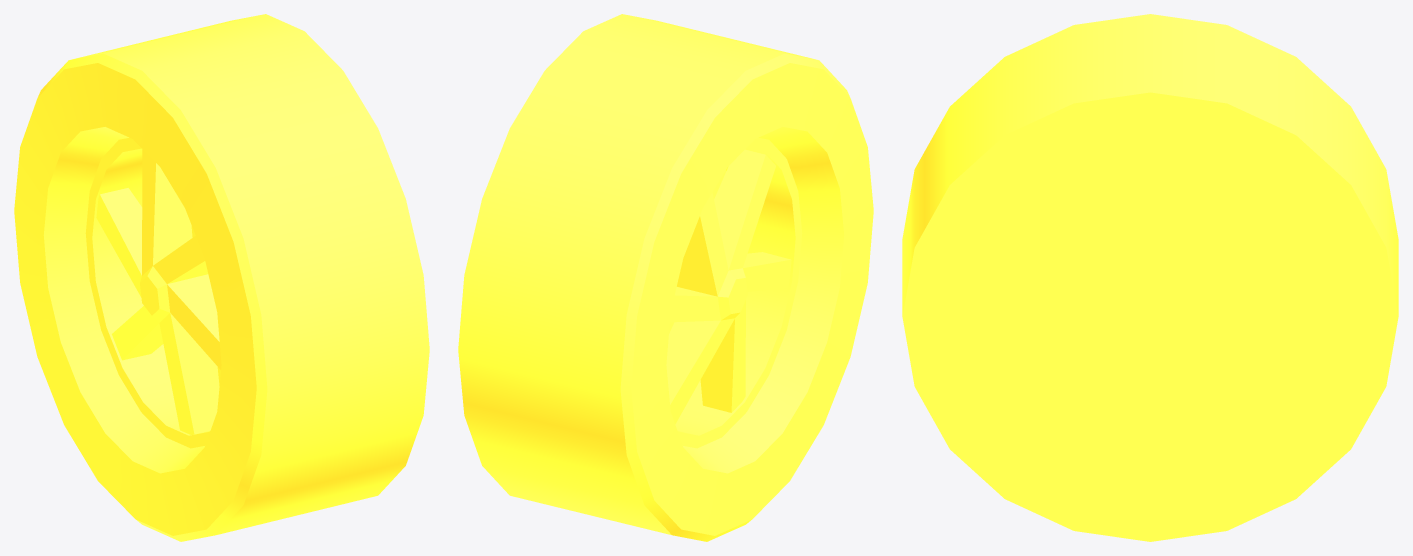
The model's file is supercar-gold-wheel.glb.
3 renders of one model, left to right at view 1: azimuth 30°, elevation 25°; view 2: azimuth 150°, elevation 25°; view 3: azimuth 270°, elevation 25°, orthographic.
Visible parts, largest first — view 1: model; view 2: model; view 3: model.
Part boxes in pixels (x1=…): model: x1=14, y1=14, x2=429, y2=541; model: x1=458, y1=14, x2=873, y2=541; model: x1=902, y1=14, x2=1398, y2=541.
Bounding box in the file's own units: 0.3111 × 0.7851 × 0.7851.
